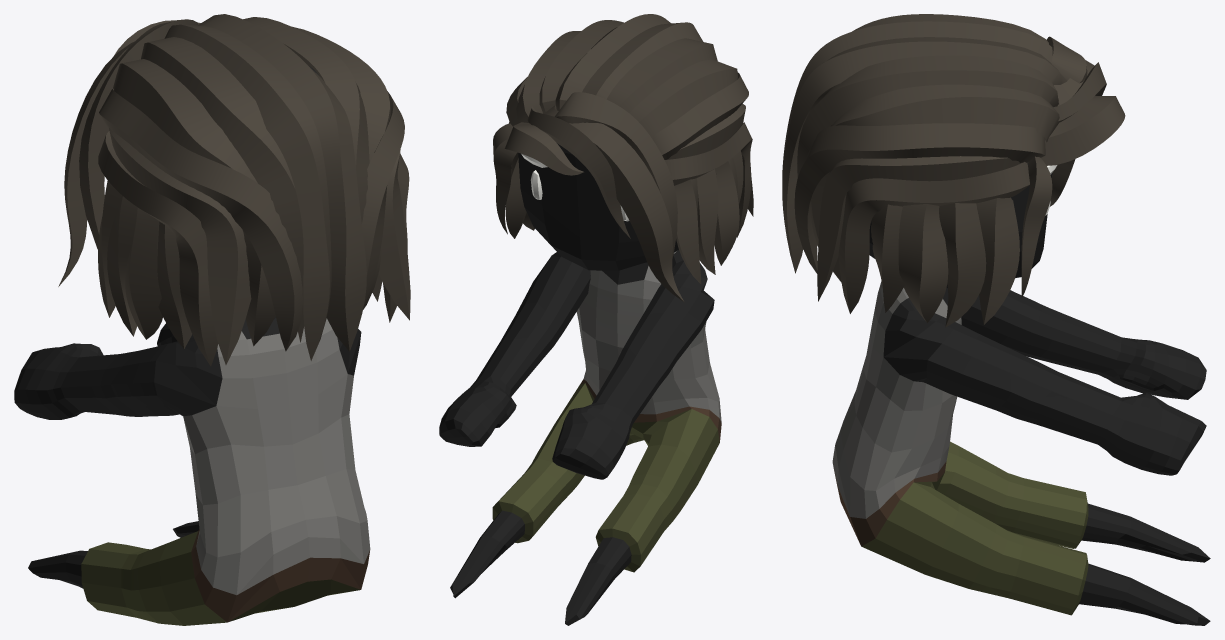
Rendered from Pilot_Naielie.fbx.
3 views of the same model, side by side, from view 1: azimuth 30°, elevation 25°; view 2: azimuth 150°, elevation 25°; view 3: azimuth 270°, elevation 25° (orthographic). The views are drawn at different scales.
Visible parts, largest first — view 1: Pilot_Naielie; view 2: Pilot_Naielie; view 3: Pilot_Naielie.
Part boxes in pixels (bbox=[...]): Pilot_Naielie: bbox=[14, 14, 410, 625]; Pilot_Naielie: bbox=[439, 14, 753, 625]; Pilot_Naielie: bbox=[782, 14, 1210, 625].
Bounding box in the file's own units: 0.4986 × 1.11 × 0.7677.
